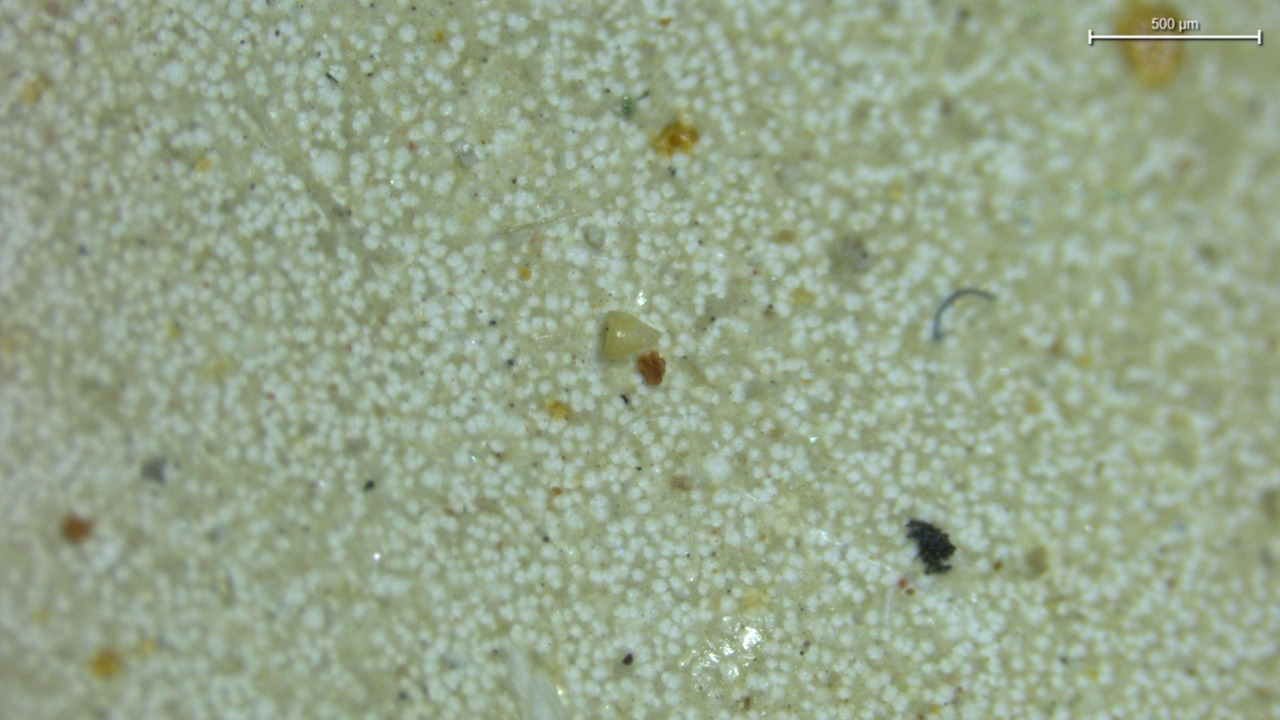microplastic_fragment: (601, 310, 660, 361), (905, 519, 956, 574)
